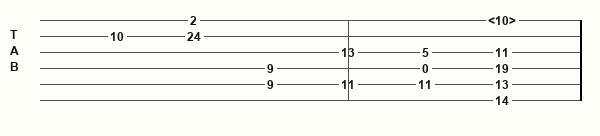0: (422, 62, 433, 75)
10: (110, 30, 128, 43)
11: (341, 78, 359, 91), (418, 78, 436, 91), (495, 46, 513, 59)
13: (341, 46, 359, 59), (495, 78, 513, 91)
14: (495, 94, 513, 107)
19: (495, 62, 513, 75)
2: (190, 14, 201, 27)
24: (187, 30, 205, 43)
5: (422, 46, 433, 59)
9: (267, 62, 278, 75), (267, 78, 278, 91)
harmonic: (488, 14, 520, 27)
